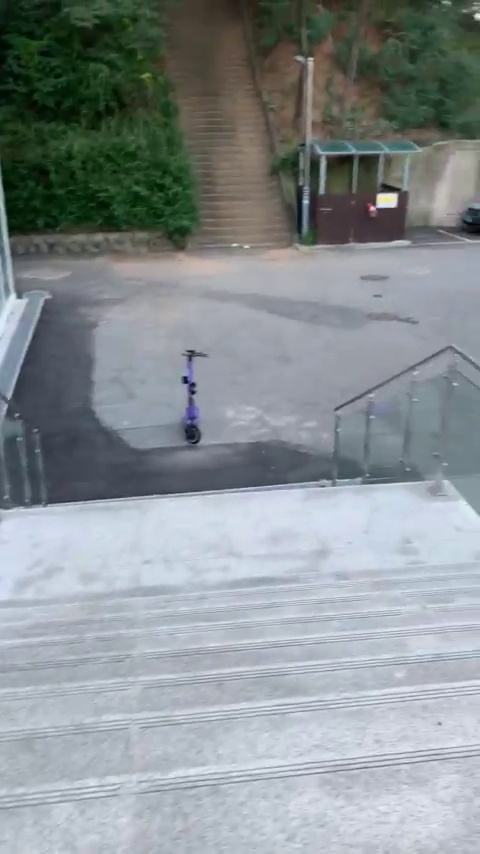beam: (170, 342, 220, 447)
